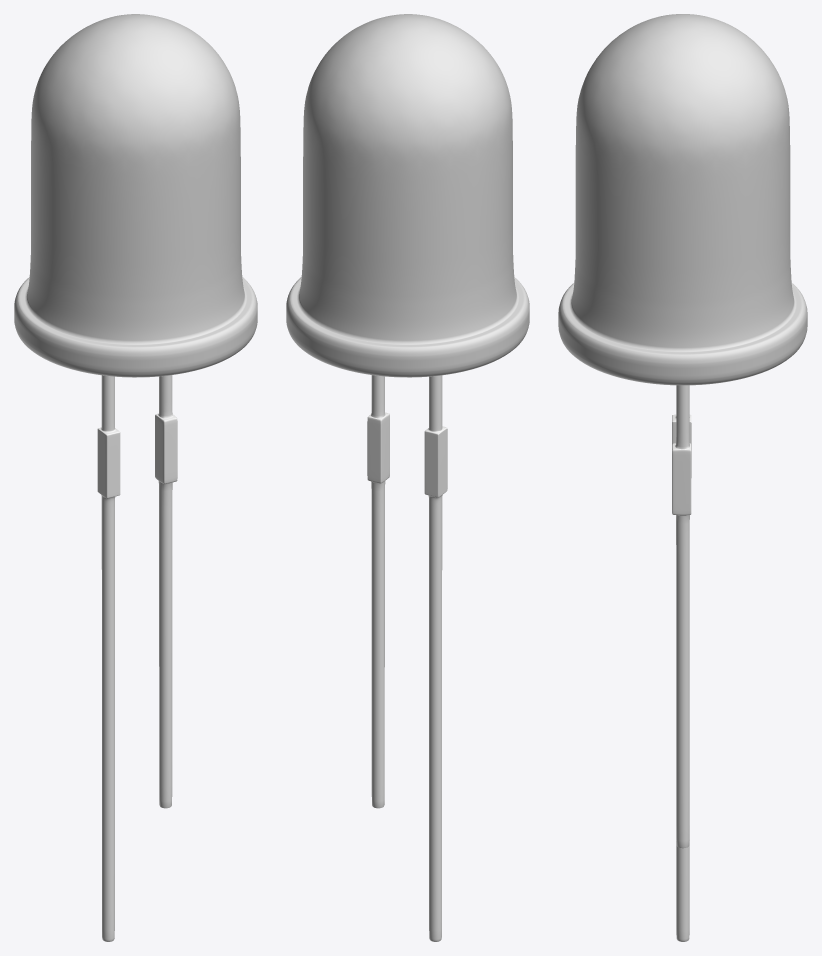
The model's file is led2.fbx.
3 views of the same model, side by side, from view 1: azimuth 30°, elevation 25°; view 2: azimuth 150°, elevation 25°; view 3: azimuth 270°, elevation 25° (orthographic). The views are drawn at different scales.
Parts seen in each view (by area): view 1: led, lead, lead_001; view 2: led, lead, lead_001; view 3: led, lead_001, lead.
Part boxes in pixels (x1,y1,x2,y2): led: (14, 14, 257, 377); lead: (97, 375, 120, 941); lead_001: (155, 375, 177, 808); led: (286, 14, 529, 377); lead: (424, 375, 447, 941); lead_001: (367, 375, 389, 808); led: (558, 14, 807, 385); lead_001: (672, 385, 691, 848); lead: (672, 414, 691, 941).
Bounding box in the file's own units: 0.92 × 3.79 × 0.92.
Materials: 2 (2 with a texture image).
